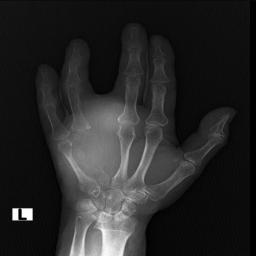cancer: (73, 129, 109, 197)
